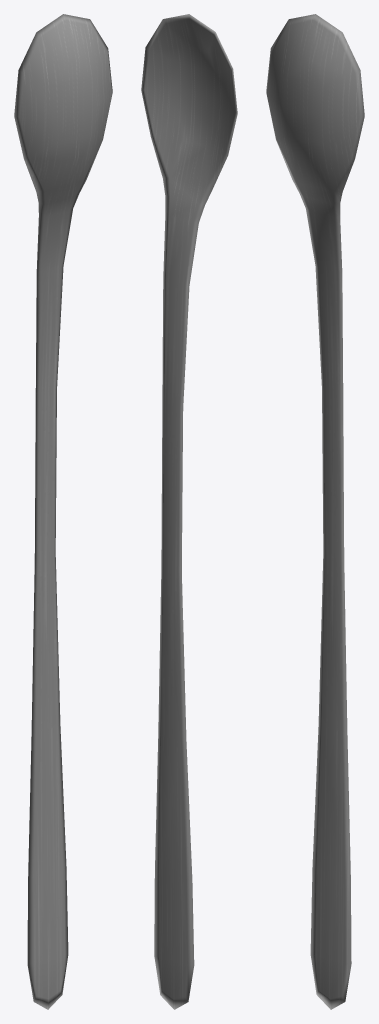
Rendered from spoonlong.glb.
3 views of the same model, side by side, from view 1: azimuth 30°, elevation 25°; view 2: azimuth 150°, elevation 25°; view 3: azimuth 330°, elevation 25° (orthographic). The views are drawn at different scales.
Visible parts, largest first — view 1: spoonlong; view 2: spoonlong; view 3: spoonlong.
Boxes of the visible parts, x1,y1,x2,y2 form: spoonlong: (14,14,112,1009); spoonlong: (141,14,237,1009); spoonlong: (266,14,364,1009).
Bounding box in the file's own units: 0.031 × 0.3027 × 0.0165.
Materials: 1 (1 with a texture image).
